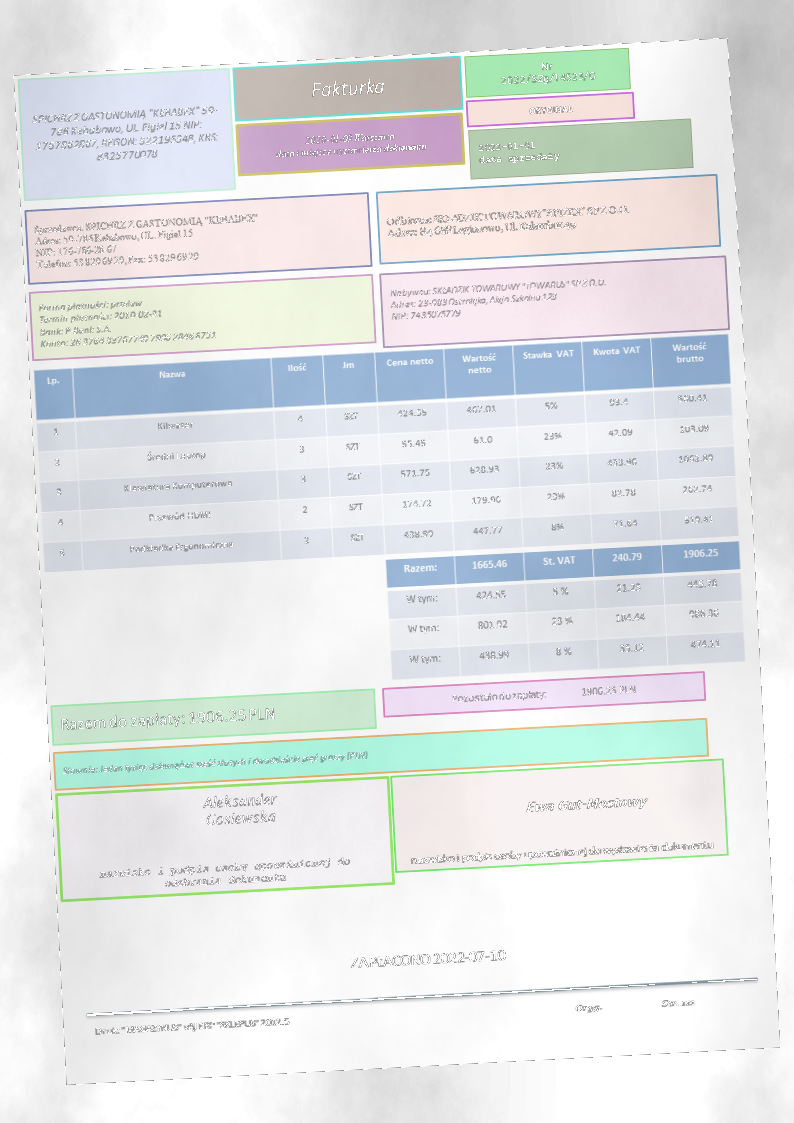Table: (32, 333, 740, 574), (384, 540, 746, 680)
TextBox: (31, 210, 263, 272), (26, 102, 222, 168), (386, 275, 609, 323), (35, 292, 219, 350), (381, 201, 631, 241), (97, 854, 351, 893), (407, 837, 715, 869), (61, 748, 370, 777), (58, 704, 277, 735), (273, 128, 429, 161), (91, 1015, 292, 1039), (346, 946, 508, 973), (450, 682, 637, 705), (523, 791, 651, 818), (200, 790, 283, 829), (497, 57, 598, 88), (476, 137, 562, 168), (571, 995, 698, 1015), (308, 77, 386, 102), (525, 102, 575, 116)
